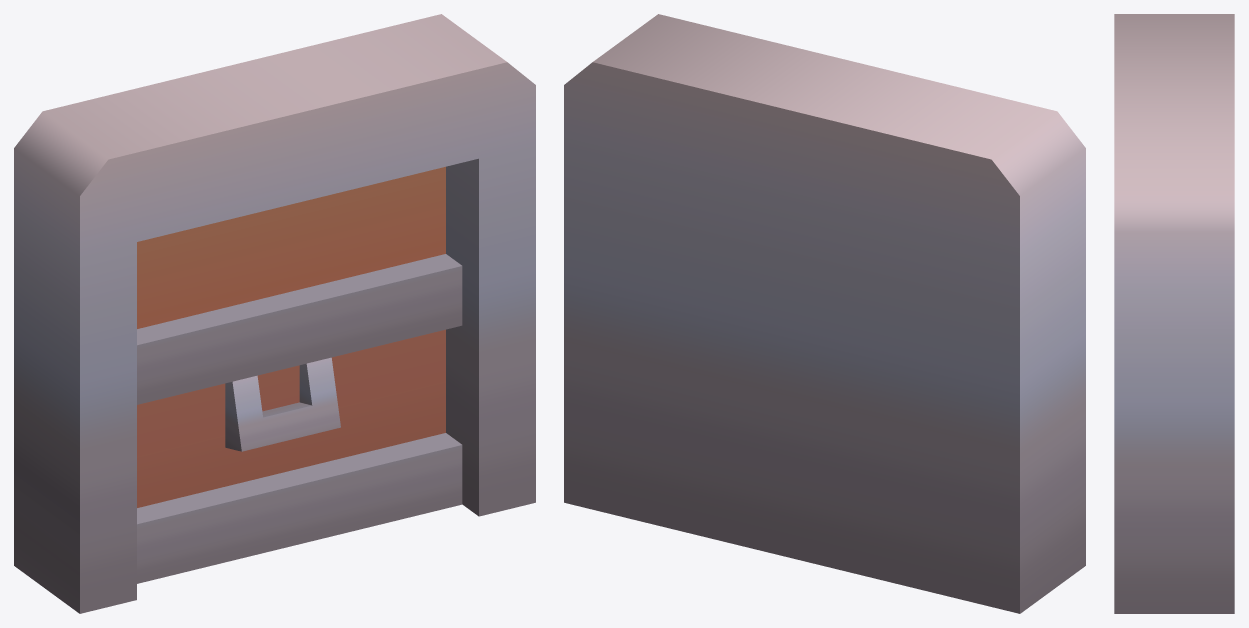
Rendered from cc0_jail_gate.glb.
3 renders of one model, left to right at view 1: azimuth 30°, elevation 25°; view 2: azimuth 150°, elevation 25°; view 3: azimuth 270°, elevation 25°, orthographic. The views are drawn at different scales.
Parts seen in each view (by area): view 1: door; view 2: door; view 3: door.
Boxes of the visible parts, x1=… form: door: x1=14, y1=14, x2=535, y2=613; door: x1=564, y1=14, x2=1085, y2=613; door: x1=1114, y1=14, x2=1234, y2=613.
Size of the model in its own units: 0.8 by 0.75 by 0.2.
Materials: 1 (1 with a texture image).
